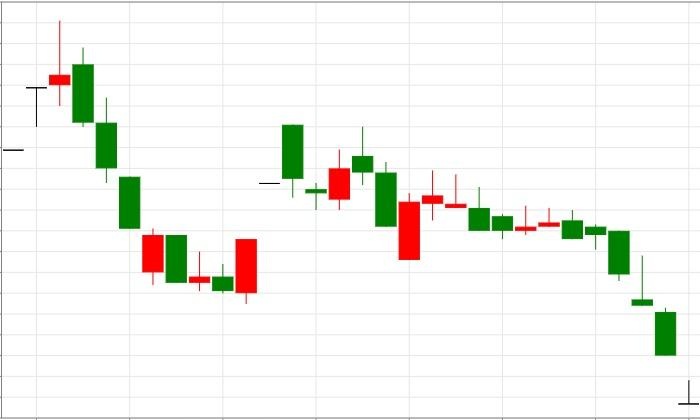three_black_crows_fall: (2, 19, 141, 229)
